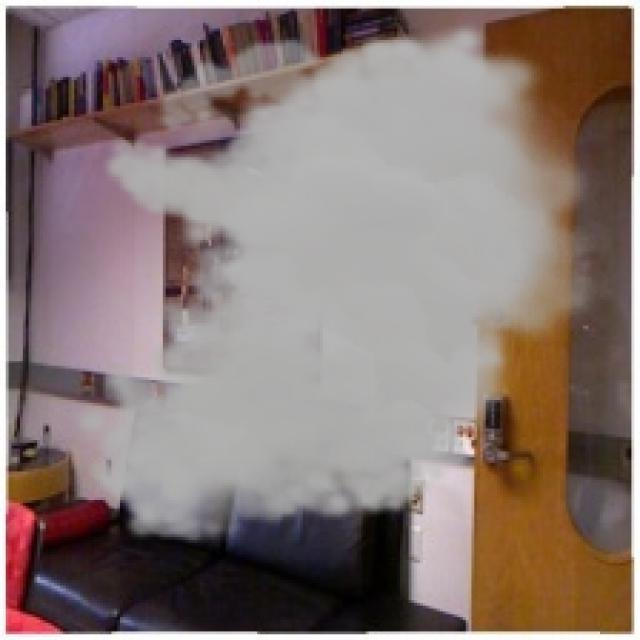smoke: (69, 20, 612, 546)
